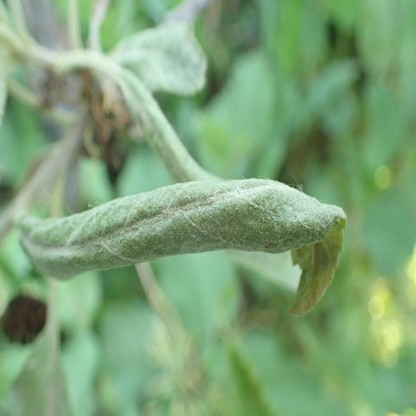powdery_mildew: (24, 178, 345, 316)
